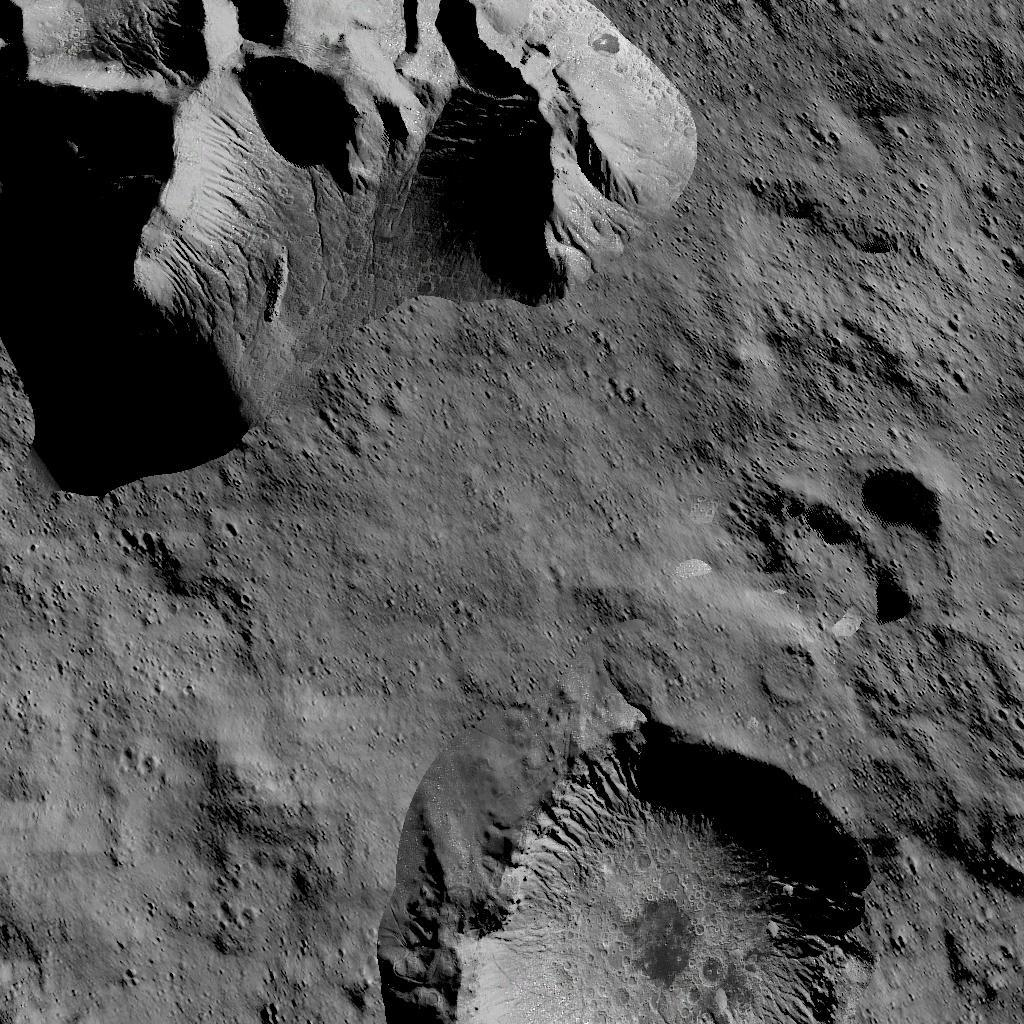Boulders: (0, 0, 722, 494)
Crater: (379, 720, 892, 1024), (753, 462, 962, 616), (753, 638, 821, 708)
Plan surface: (1, 504, 367, 1024), (731, 2, 1024, 449), (379, 506, 738, 710)
